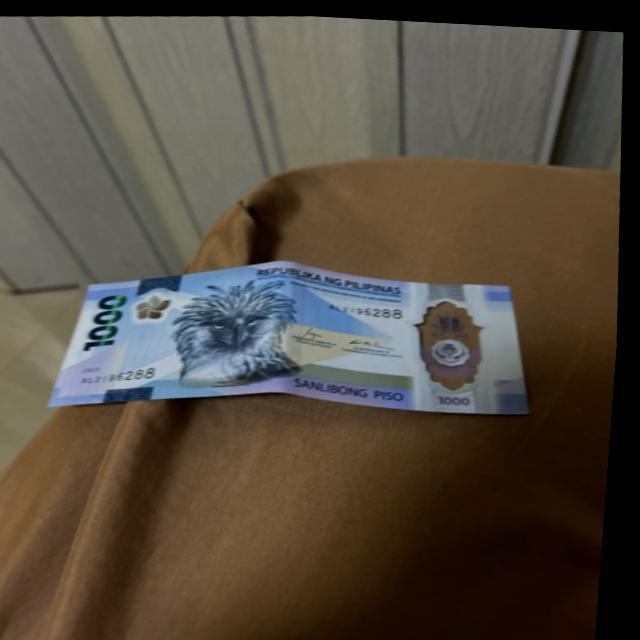clear_window: (414, 288, 499, 397)
eagle: (182, 279, 311, 386)
sampaguita: (136, 288, 182, 322)
